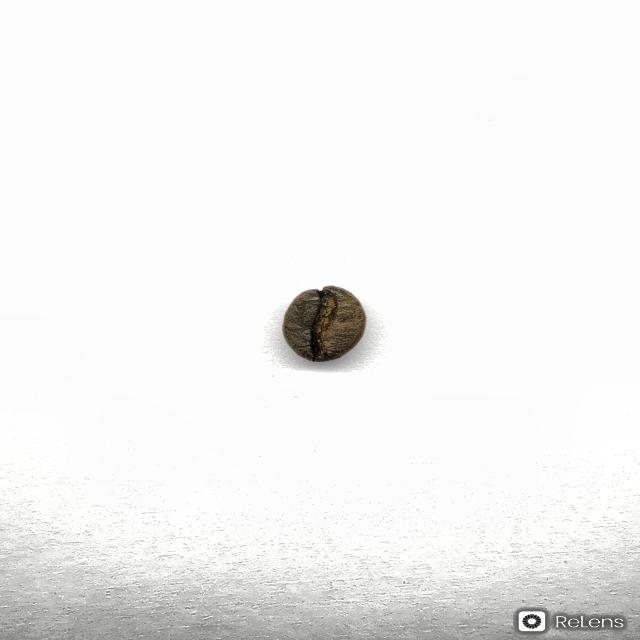Black: (280, 284, 367, 363)
